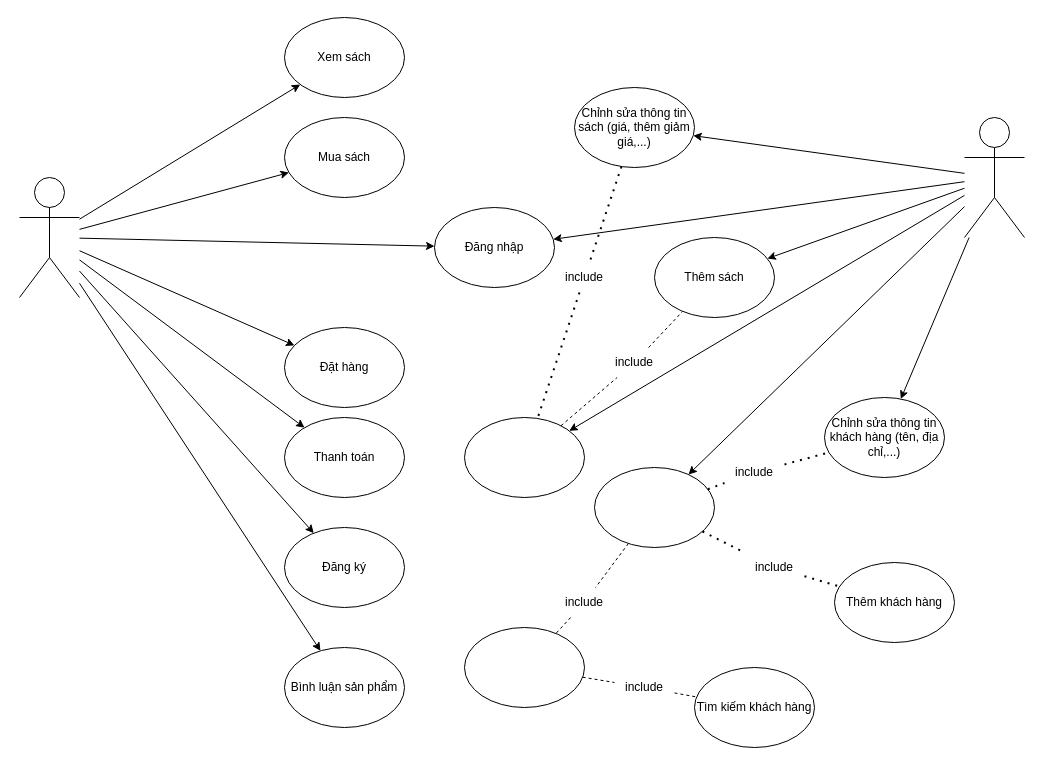
The diagram is 1042 pixels wide and 765 high, and some of its shapes have lost their labels. The shapes that lost their labels are listed below. From the top down, each one's centre as x and y in pixels, then its label:
At (x=994, y=177): "Admin".
At (x=49, y=237): "Khách hàng".
At (x=524, y=457): "Quản lý sán phẩm".
At (x=654, y=507): "Quản lý khách hàng".
At (x=524, y=667): "Xóa khách hàng".
